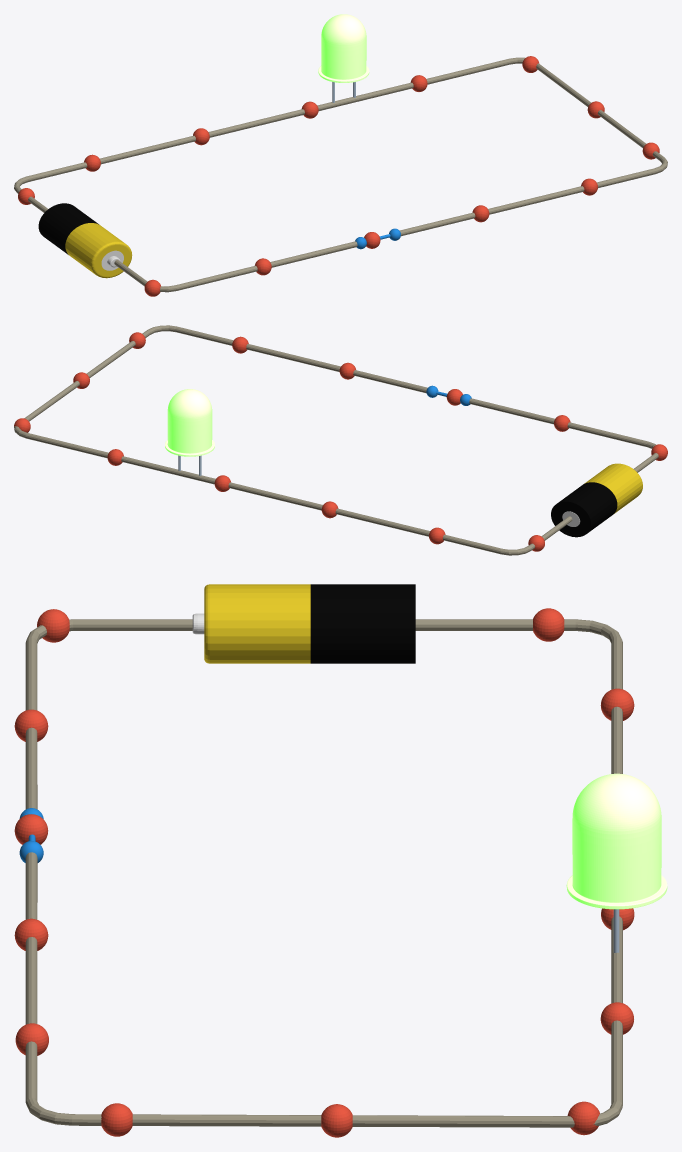
File: circuit.glb
3 views of the same model, one above another, from view 1: azimuth 30°, elevation 25°; view 2: azimuth 150°, elevation 25°; view 3: azimuth 270°, elevation 25° (orthographic). The views are drawn at different scales.
Parts seen in each view (by area): view 1: Plane, Cylinder, Sphere.002; view 2: Plane, Cylinder, Sphere.002; view 3: Plane, Cylinder, Sphere.002, Sphere.014, Sphere.008, Sphere.015, Sphere.006, Sphere.013.
Part boxes in pixels (x1=…): Plane: x1=14, y1=57, x2=667, y2=292; Cylinder: x1=38, y1=203, x2=132, y2=278; Sphere.002: x1=318, y1=14, x2=369, y2=82; Plane: x1=14, y1=325, x2=658, y2=555; Cylinder: x1=551, y1=463, x2=642, y2=537; Sphere.002: x1=165, y1=389, x2=214, y2=456; Plane: x1=25, y1=619, x2=622, y2=1127; Cylinder: x1=192, y1=584, x2=415, y2=663; Sphere.002: x1=566, y1=773, x2=667, y2=909; Sphere.014: x1=321, y1=1104, x2=352, y2=1137; Sphere.008: x1=533, y1=608, x2=564, y2=641; Sphere.015: x1=101, y1=1103, x2=132, y2=1136; Sphere.006: x1=37, y1=609, x2=69, y2=642; Sphere.013: x1=567, y1=1101, x2=599, y2=1135.
Bounding box in the file's own units: 4.23 × 0.7672 × 2.23.
